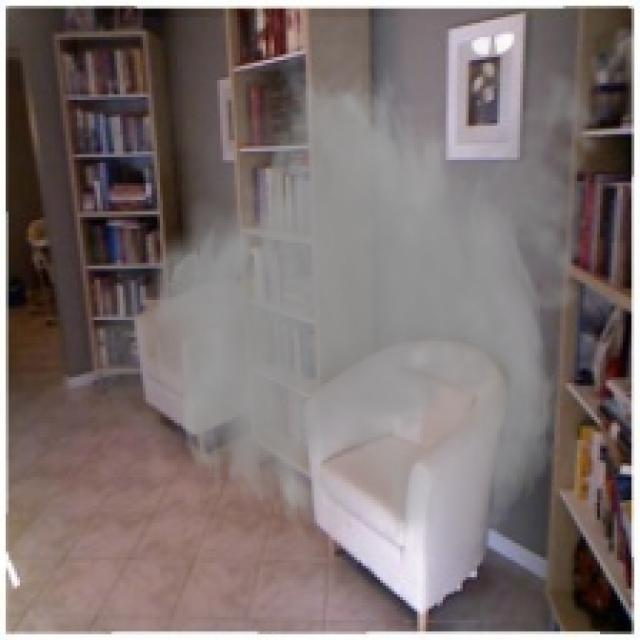Smoke: (77, 17, 617, 563)
